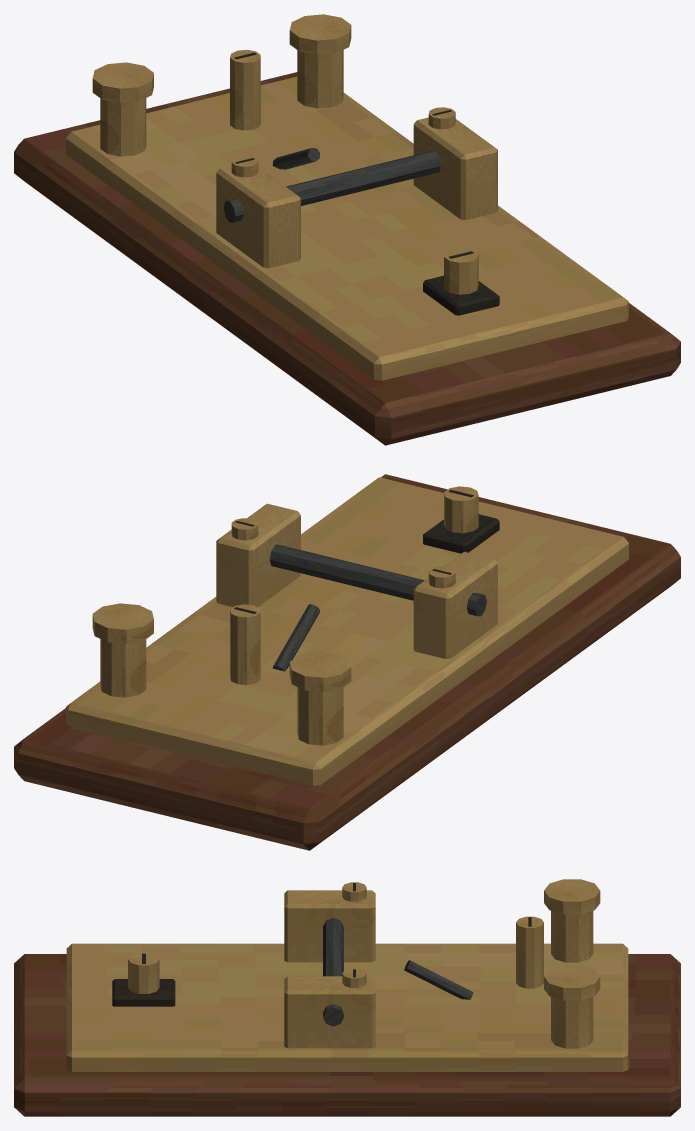
File: key_static.glb
The picture shows the model from 3 angles, top to bottom: view 1: azimuth 30°, elevation 25°; view 2: azimuth 150°, elevation 25°; view 3: azimuth 270°, elevation 25°; orthographic projection. The views are drawn at different scales.
Parts seen in each view (by area): view 1: key_static; view 2: key_static; view 3: key_static.
Boxes of the visible parts, x1=… form: key_static: x1=14, y1=14, x2=680, y2=445; key_static: x1=14, y1=474, x2=680, y2=850; key_static: x1=14, y1=879, x2=680, y2=1116.
Size of the model in its own units: 0.09 by 0.0417 by 0.19.
4 materials, 4 textured.
